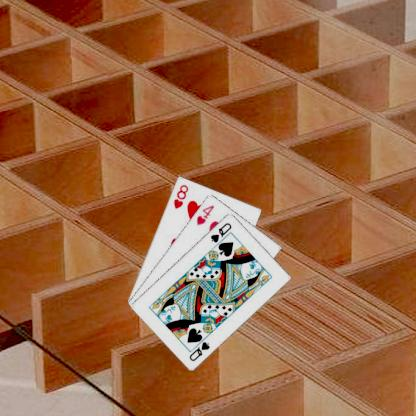4H: (193, 202, 216, 226)
8H: (171, 182, 190, 210)
QS: (208, 220, 233, 244), (186, 338, 211, 362)
